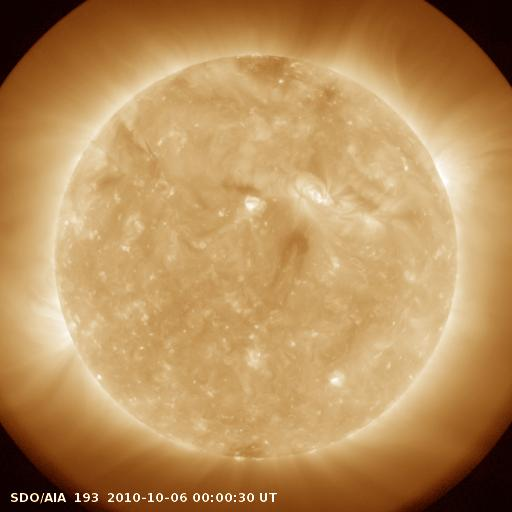coronal_hole: (233, 47, 299, 90), (273, 227, 311, 280)
